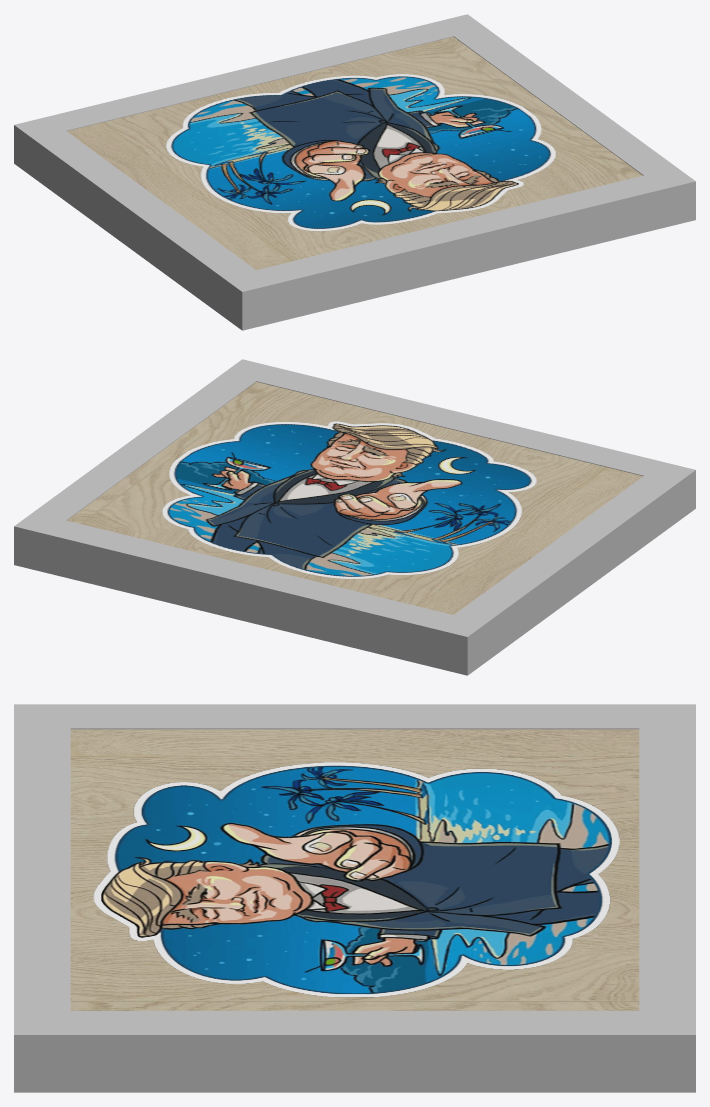
The model's file is Puzzle_20.FBX.
3 views of the same model, one above another, from view 1: azimuth 30°, elevation 25°; view 2: azimuth 150°, elevation 25°; view 3: azimuth 270°, elevation 25° (orthographic). The views are drawn at different scales.
Visible parts, largest first — view 1: Box001, 049, 048, 050, 053, 056, 054, 051, 055, 6; view 2: Box001, 048, 049, 050, 053, 051, 054, 056, 055, 6; view 3: Box001, 050, 049, 048, 051, 056, 054, 053, 055, 6.
Boxes of the visible parts, x1,y1,x2,y2 form: Box001: (14,14,695,330); 049: (306,154,522,234); 048: (427,118,642,210); 050: (186,177,400,269); 053: (356,71,572,159); 056: (67,84,283,171); 054: (308,37,500,112); 051: (114,131,329,218); 055: (187,72,355,147); 6: (283,107,426,170); Box001: (14,359,695,675); 048: (185,382,401,474); 049: (306,417,522,510); 050: (427,441,642,533); 053: (114,434,329,521); 051: (356,493,571,580); 054: (67,481,258,555); 056: (261,540,500,614); 055: (212,516,403,574); 6: (259,469,402,533); Box001: (14,704,695,1092); 050: (70,729,354,835); 049: (70,800,354,940); 048: (70,905,354,1010); 051: (284,729,496,835); 056: (426,729,639,870); 054: (426,905,639,1010); 053: (284,905,496,1010); 055: (426,800,639,905); 6: (284,835,496,905).
Size of the model in its own units: 4 by 0.3257 by 3.48.
